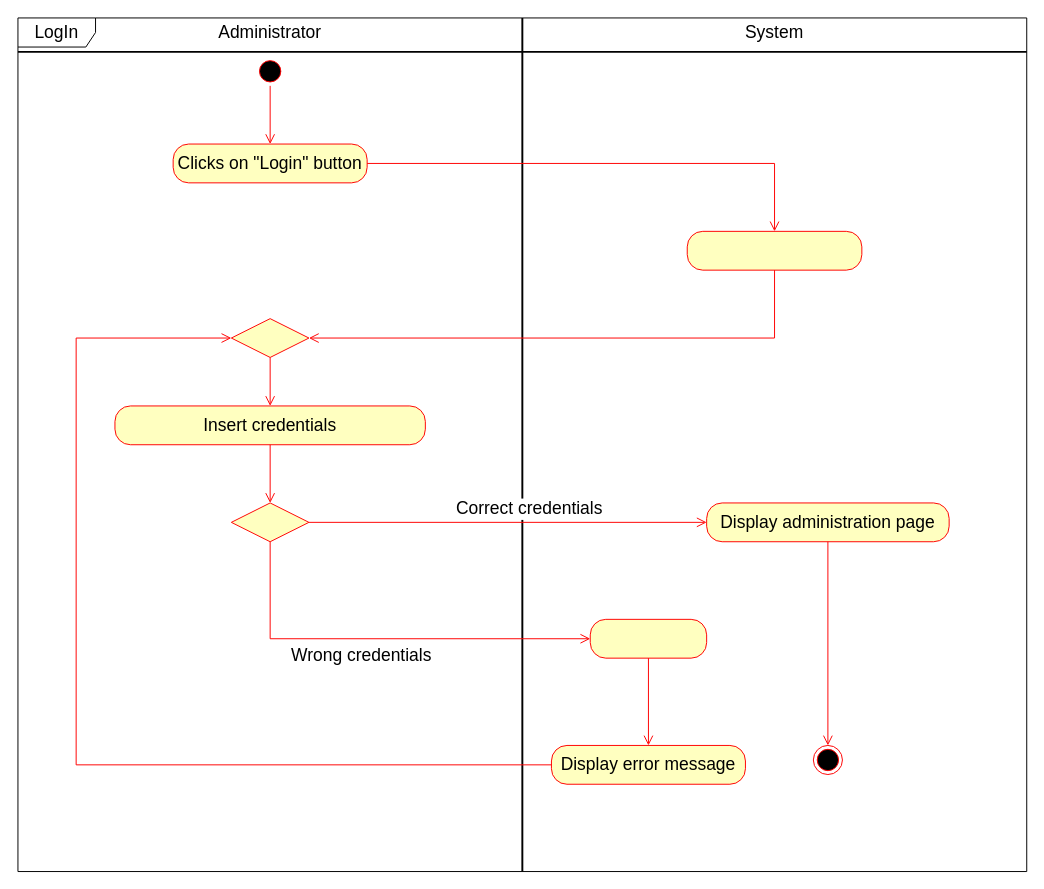
The diagram is 1044 pixels wide and 889 high, and some of its shapes have lost their labels. The shapes that lost their labels are listed below. From the top down, each one's centre as x and y in pixels, then its label:
At point (774, 250): "Displays login page".
At point (648, 638): "Error".
